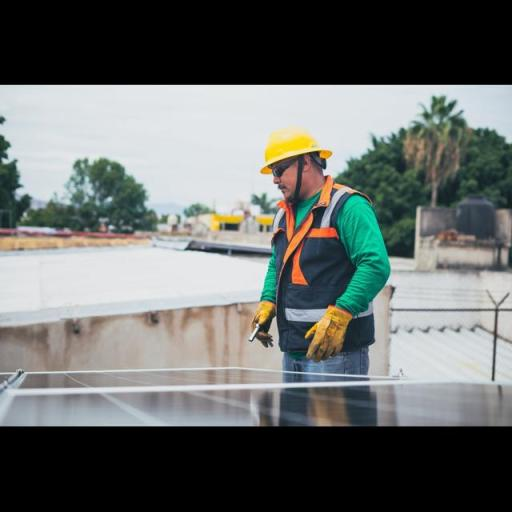Person: (244, 103, 395, 388)
gloves: (305, 304, 351, 362), (246, 294, 276, 352)
goggles: (265, 157, 297, 181)
helmet: (250, 123, 334, 176)
